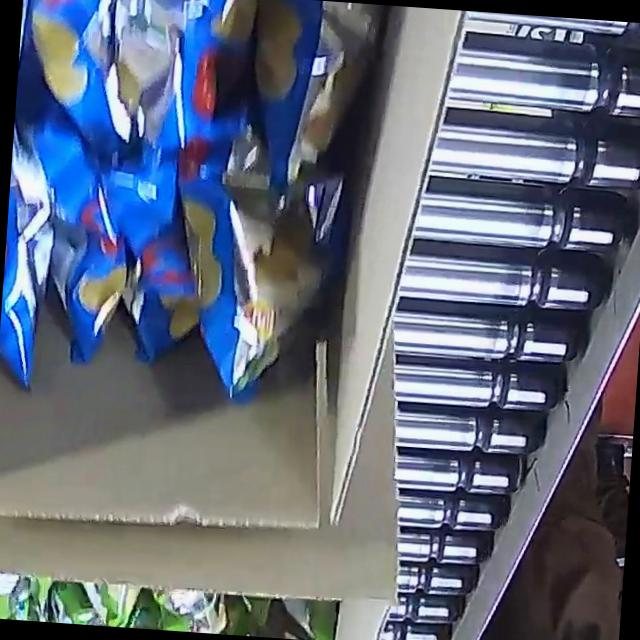paprika: (0, 0, 411, 418)
yogurt: (0, 569, 339, 640)
